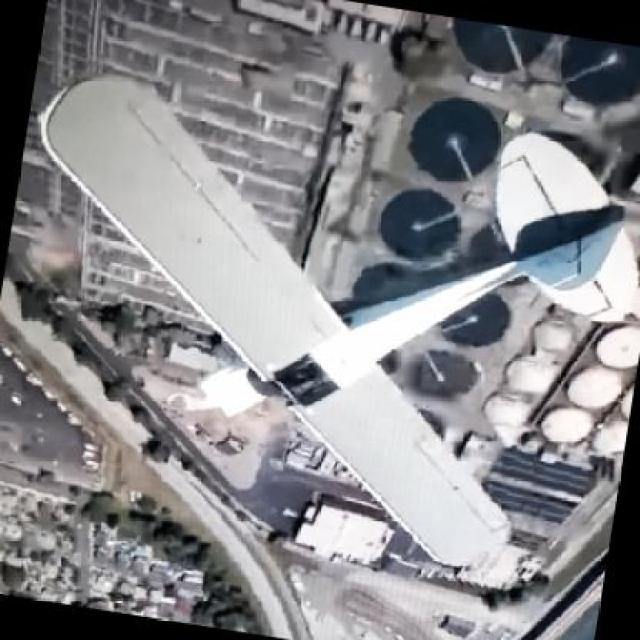iha: (34, 72, 636, 568)
